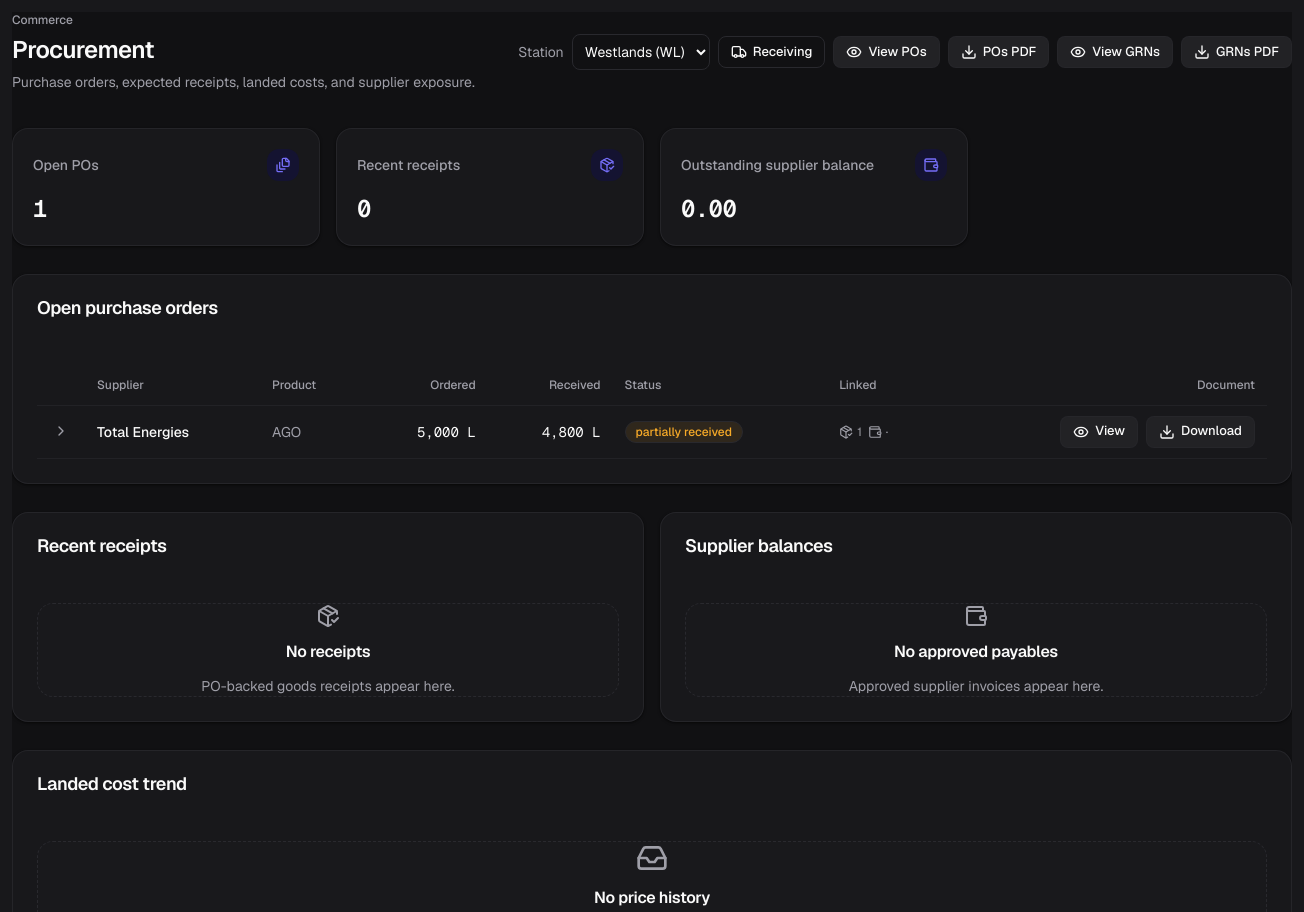
Test case: ProcurementPage linkage (7.2) › expands a PO row to surface its linked goods receipts and supplier invoices
The width and height of the screenshot is (1304, 912).
Expected: the text "Total Energies" is shown, [85, 405, 260, 458]
Expand the linkage row.
Click the button named "expand linkage": [61, 431] box [49, 419, 73, 443]
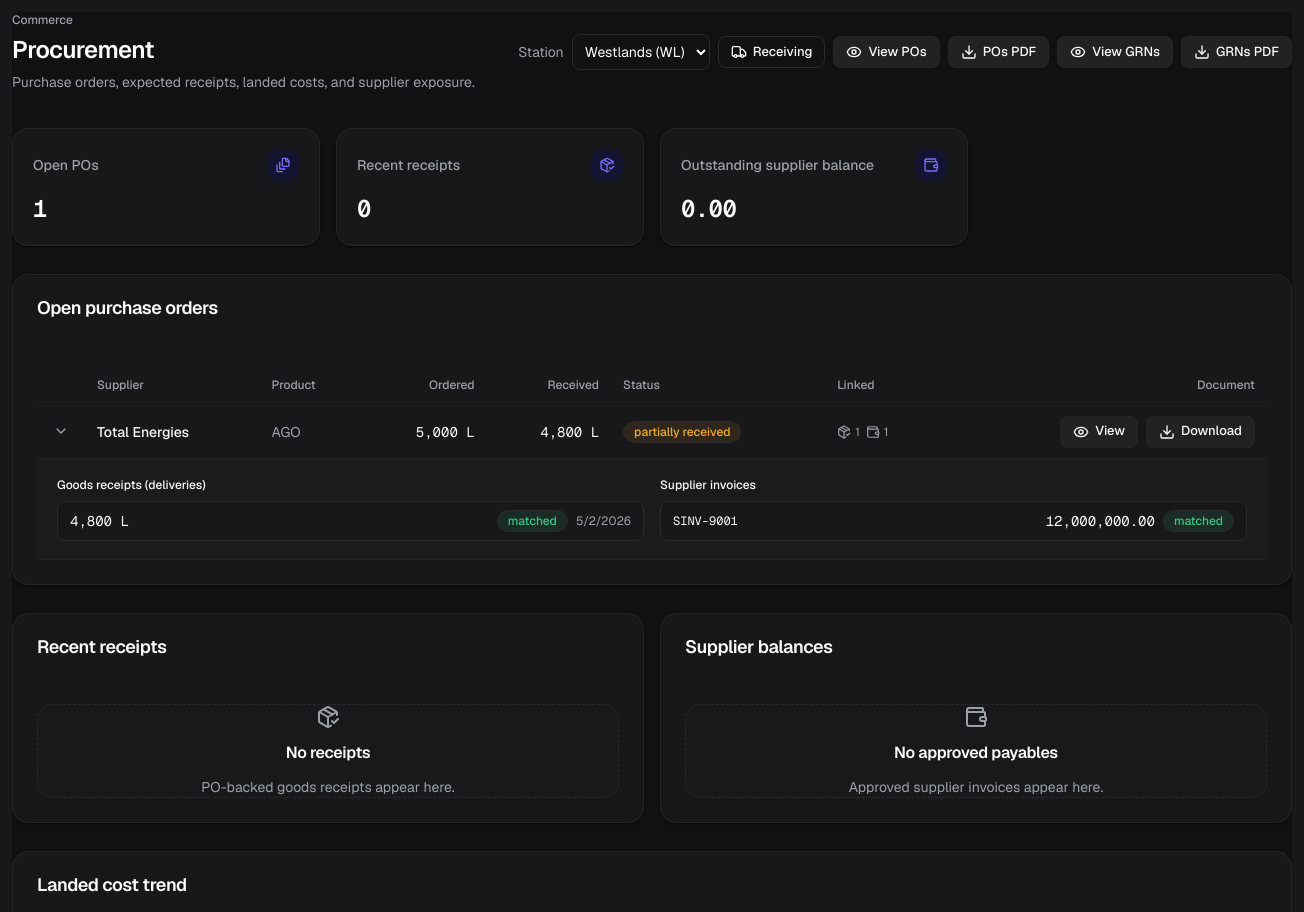
Expected: the link "SINV-9001" is shown, [673, 512, 738, 528]
Expected: the text "Goods receipts (deliveries)" is shown, [57, 476, 206, 492]
